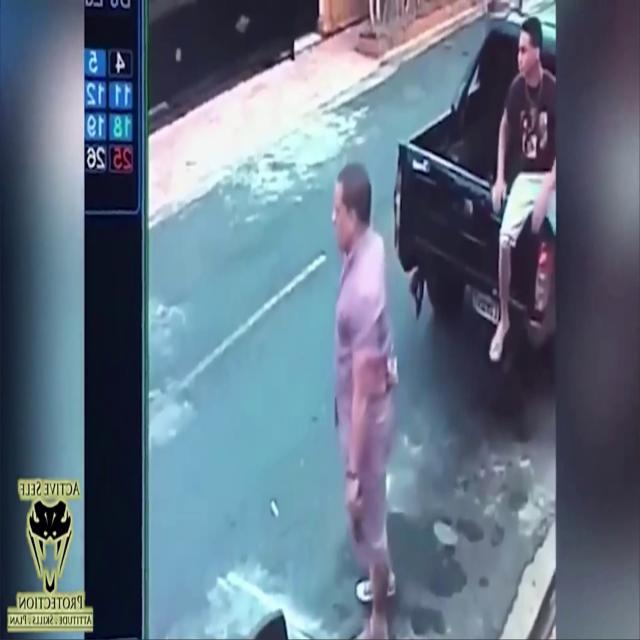Gun: (348, 480, 366, 546)
